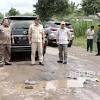Pothole: (28, 76, 100, 93)
